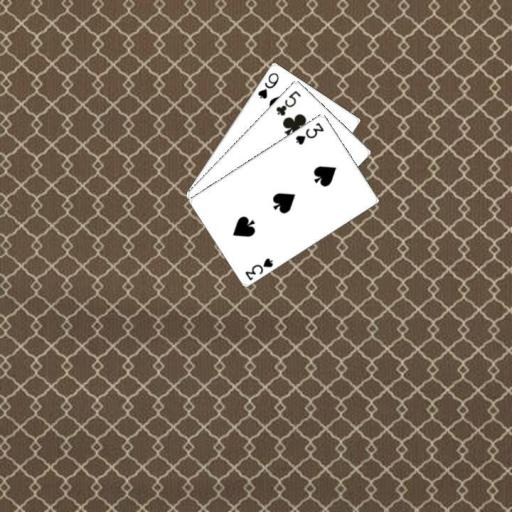3S: (292, 119, 325, 146), (242, 255, 274, 282)
5C: (273, 87, 303, 117)
9S: (255, 69, 280, 100)
